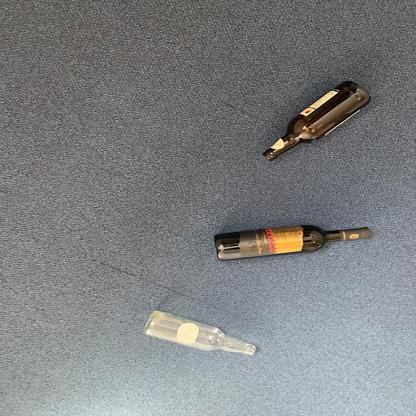trash: (262, 82, 374, 167), (214, 224, 371, 263), (142, 310, 262, 358)
